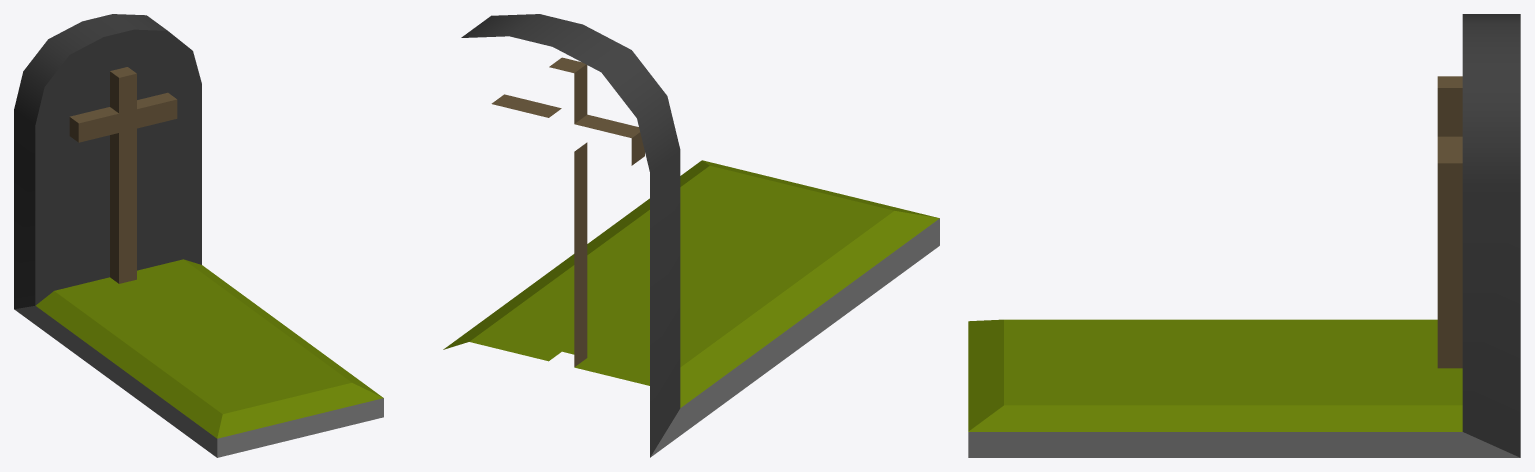
Rendered from TombRoundWithCross.glb.
3 renders of one model, left to right at view 1: azimuth 30°, elevation 25°; view 2: azimuth 150°, elevation 25°; view 3: azimuth 270°, elevation 25°, orthographic. The views are drawn at different scales.
Visible parts, largest first — view 1: TombRoundWithCross; view 2: TombRoundWithCross; view 3: TombRoundWithCross.
Boxes of the visible parts, x1=… form: TombRoundWithCross: x1=14, y1=14, x2=383, y2=457; TombRoundWithCross: x1=443, y1=14, x2=939, y2=457; TombRoundWithCross: x1=968, y1=14, x2=1520, y2=457.
Bounding box in the file's own units: 0.9 × 1.4 × 1.9.
